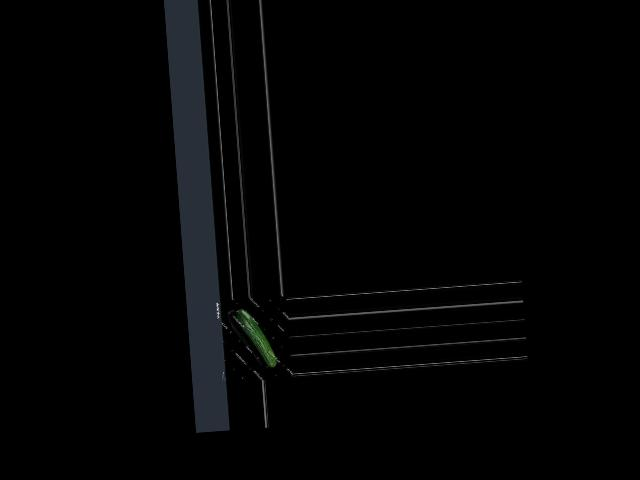cucumber: (234, 307, 277, 370)
